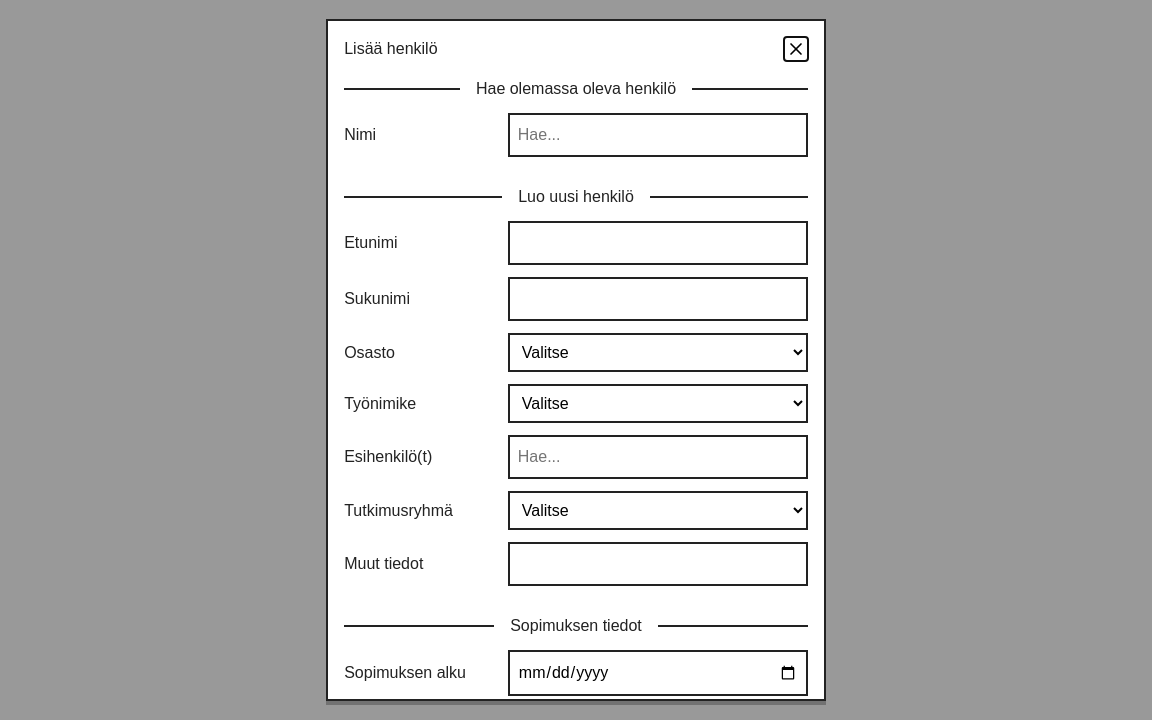
PersonModal › confirmation button if closing
Click the button named "Sulje henkilön lisäys" at (796, 49), box x1=784 y1=37 x2=808 y2=61
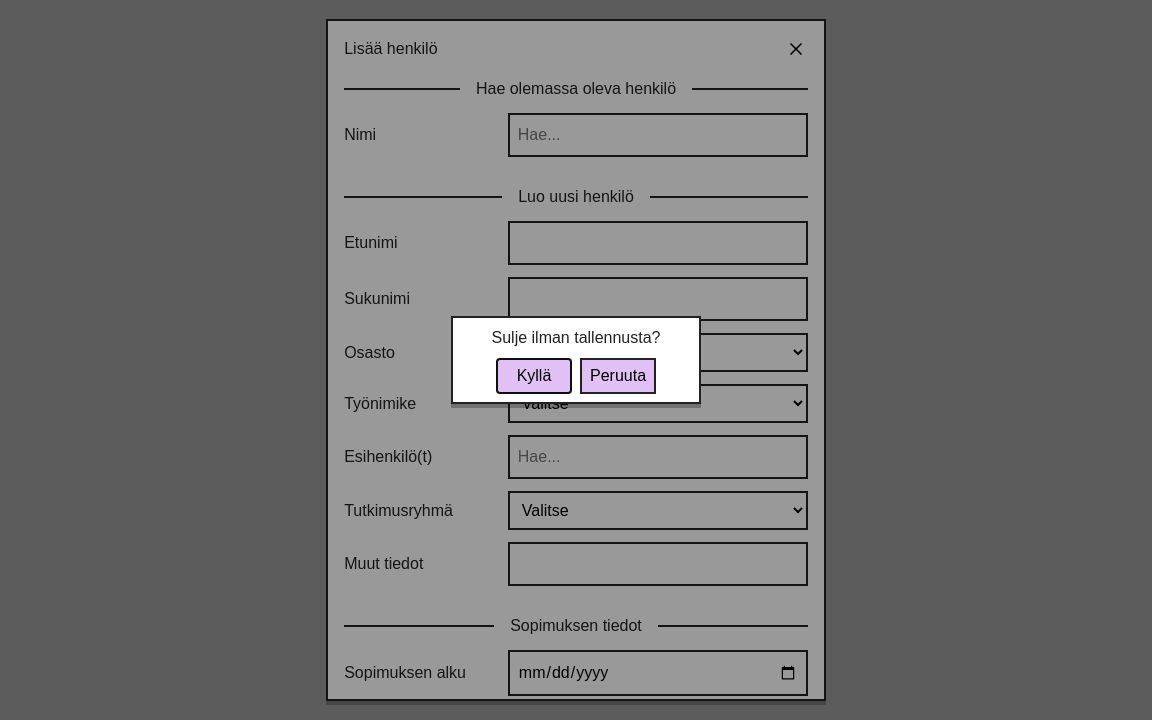
Expected: the heading "Sulje ilman tallennusta?" is shown, x1=492 y1=326 x2=660 y2=350
